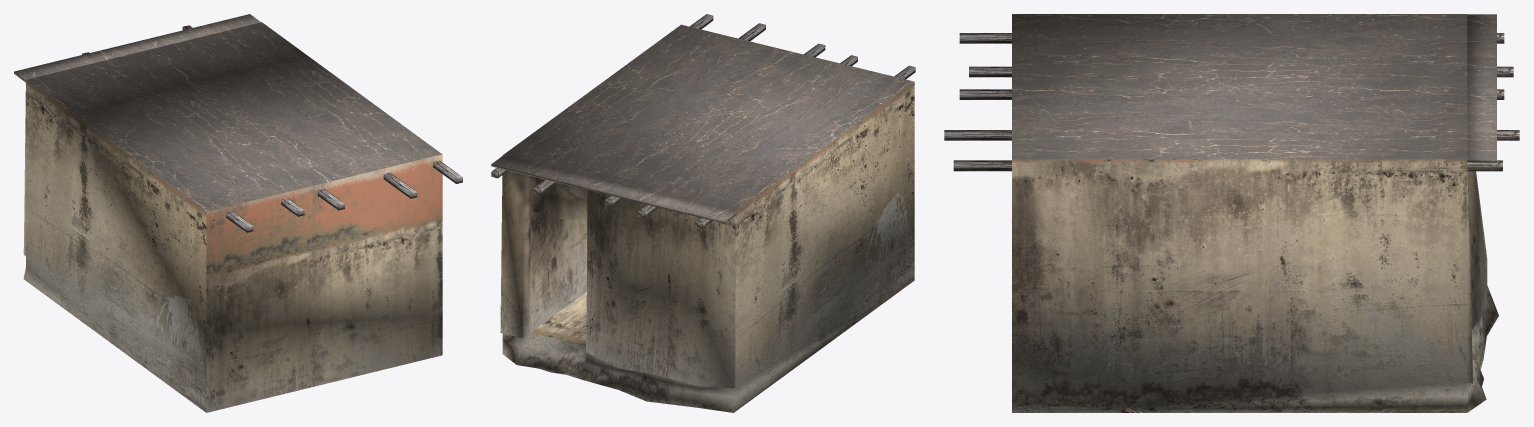
File: BuildingQ.obj
The picture shows the model from 3 angles, left to right: view 1: azimuth 30°, elevation 25°; view 2: azimuth 150°, elevation 25°; view 3: azimuth 270°, elevation 25°; orthographic projection. The views are drawn at different scales.
Visible parts, largest first — view 1: BuildingQ; view 2: BuildingQ; view 3: BuildingQ.
Boxes of the visible parts, bbox=[...] form: BuildingQ: bbox=[14, 14, 462, 412]; BuildingQ: bbox=[491, 14, 915, 412]; BuildingQ: bbox=[944, 14, 1519, 412].
Bounding box in the file's own units: 164 × 134 × 275.
